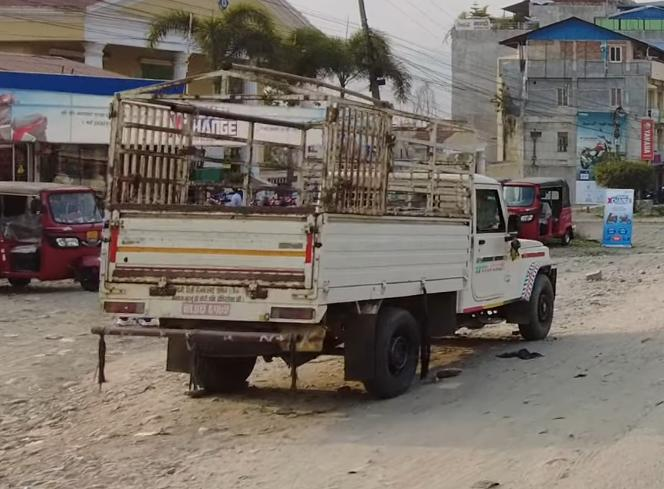auto_rickshaw: (0, 158, 119, 303), (490, 166, 583, 258)
transport_vehicle: (99, 60, 561, 406)
